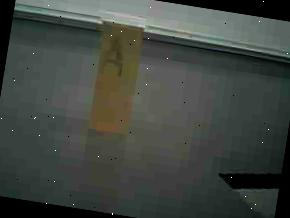Bottle A: (74, 4, 160, 146)
